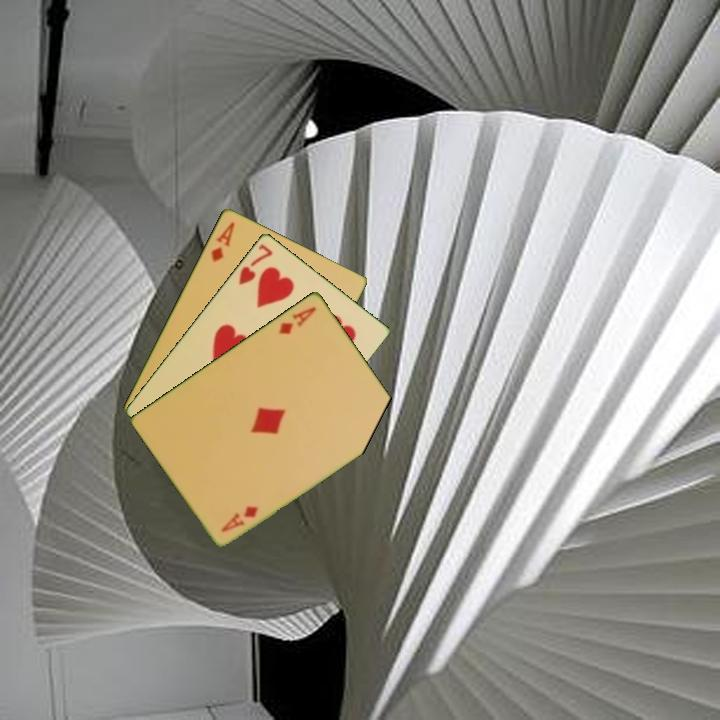7h: (235, 240, 276, 288)
Ad: (275, 302, 319, 337), (218, 501, 261, 535), (207, 218, 238, 264)
